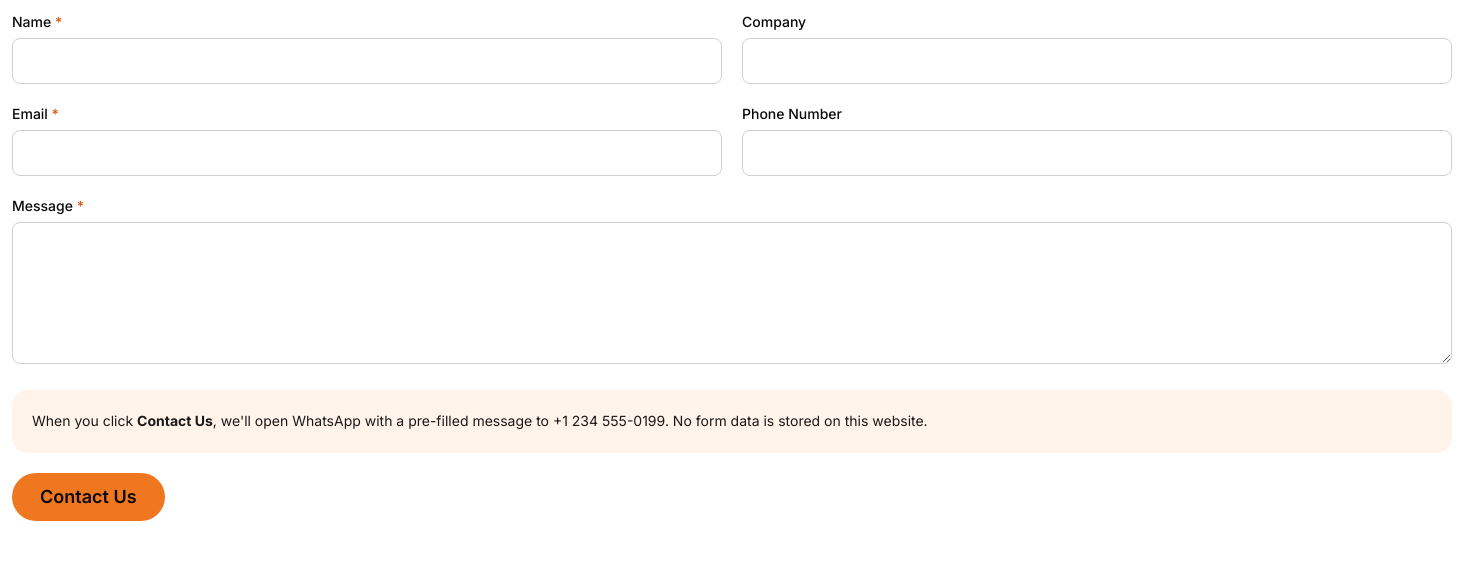
Test: ContactForm › phone field is optional — validates format when provided
Type "Daniel" into the field labelled "Name *" at (367, 61), box [12, 38, 722, 84]
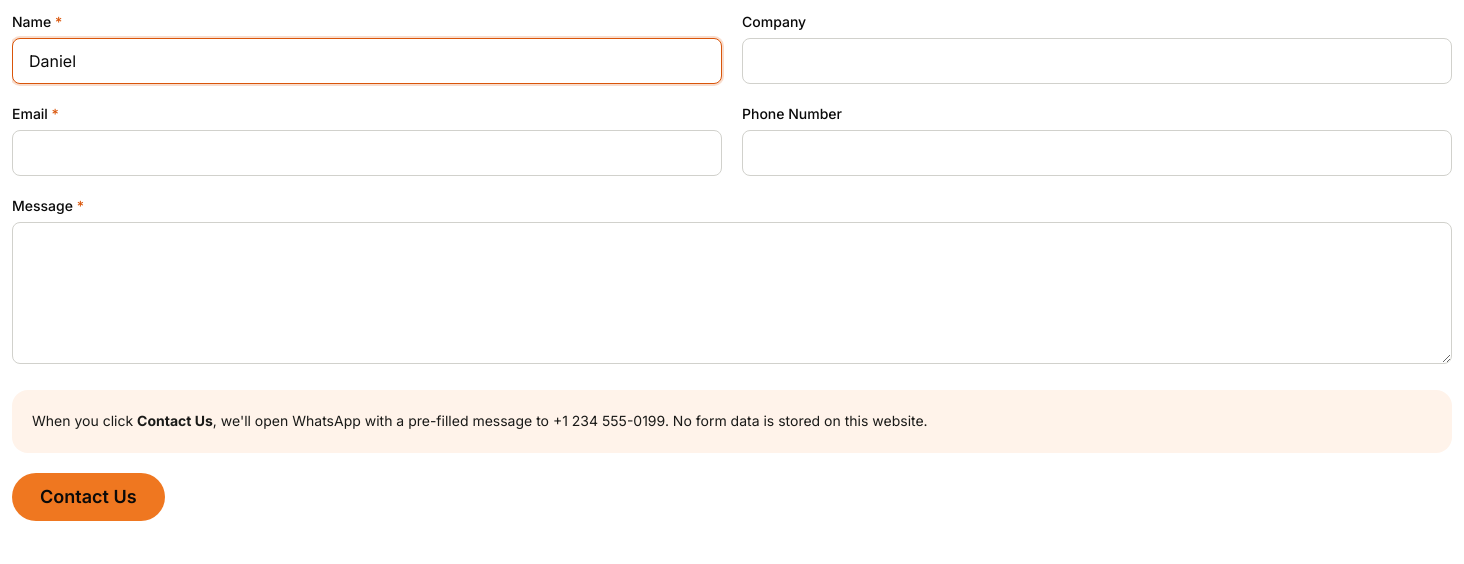
Type "daniel@test.com" into the field labelled "Email *" at (367, 153), box [12, 130, 722, 176]
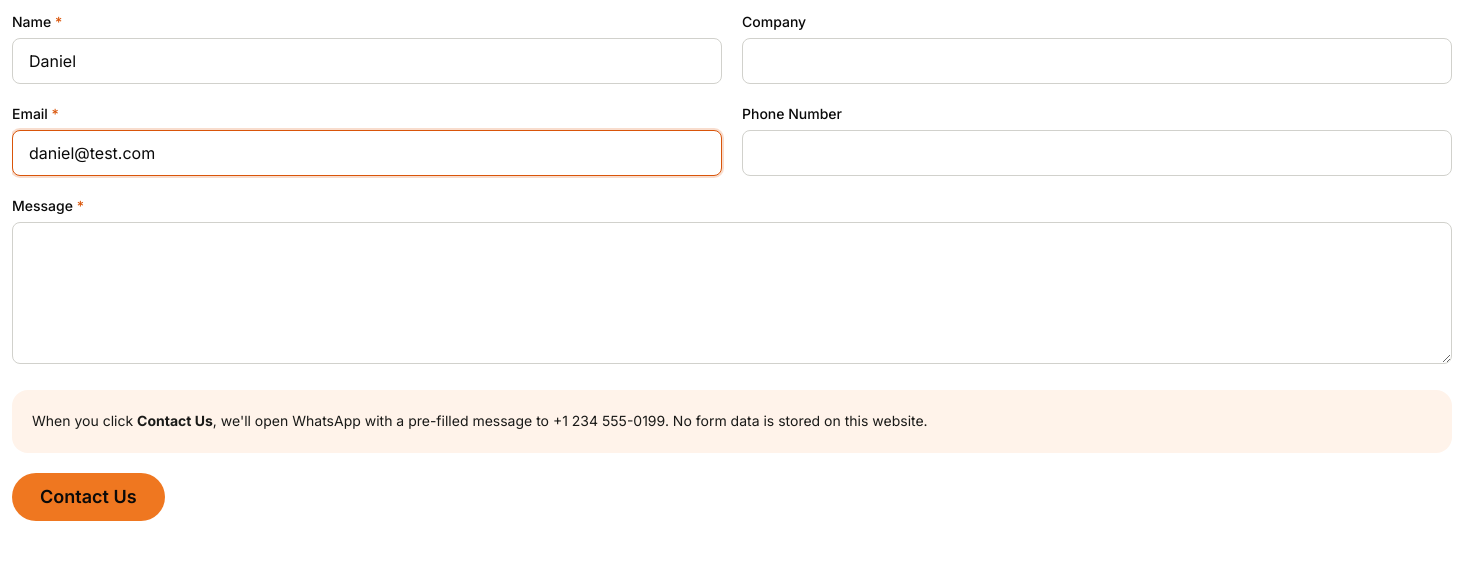
Type "abc" into the field labelled "Phone Number" at (1097, 153), box [742, 130, 1452, 176]
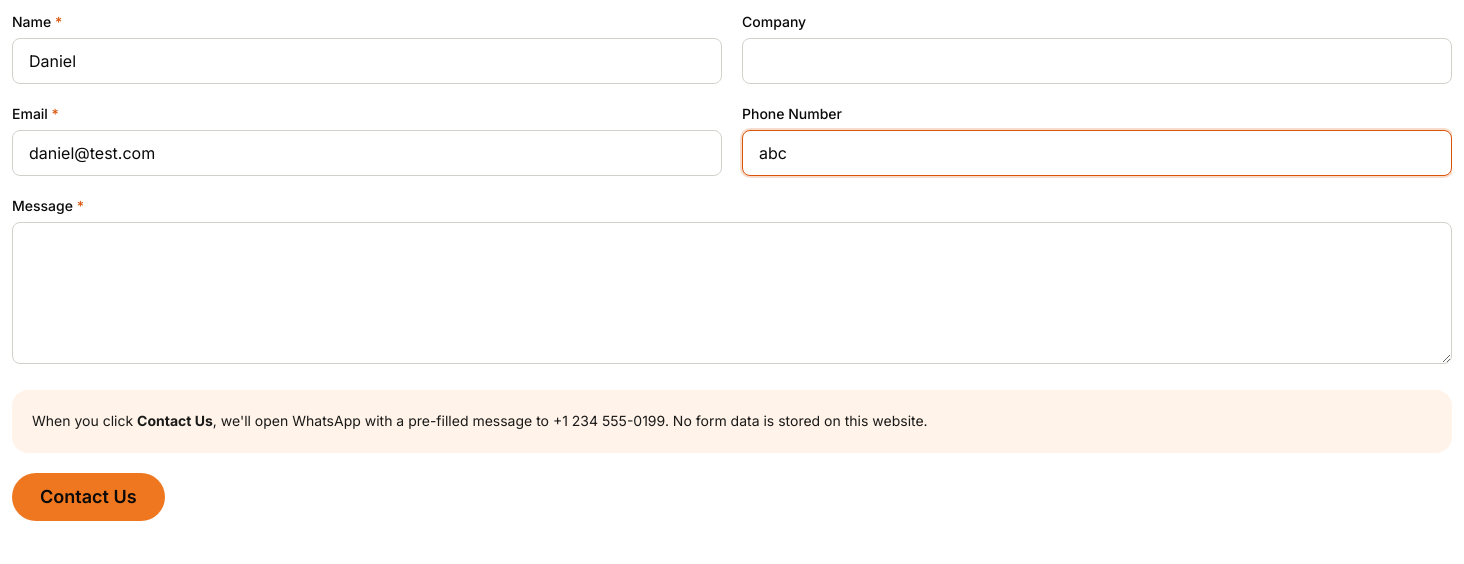
Type "I need a freight quote for ocean shipping." into the text box labelled "Message *" at (732, 293), box [12, 222, 1452, 364]
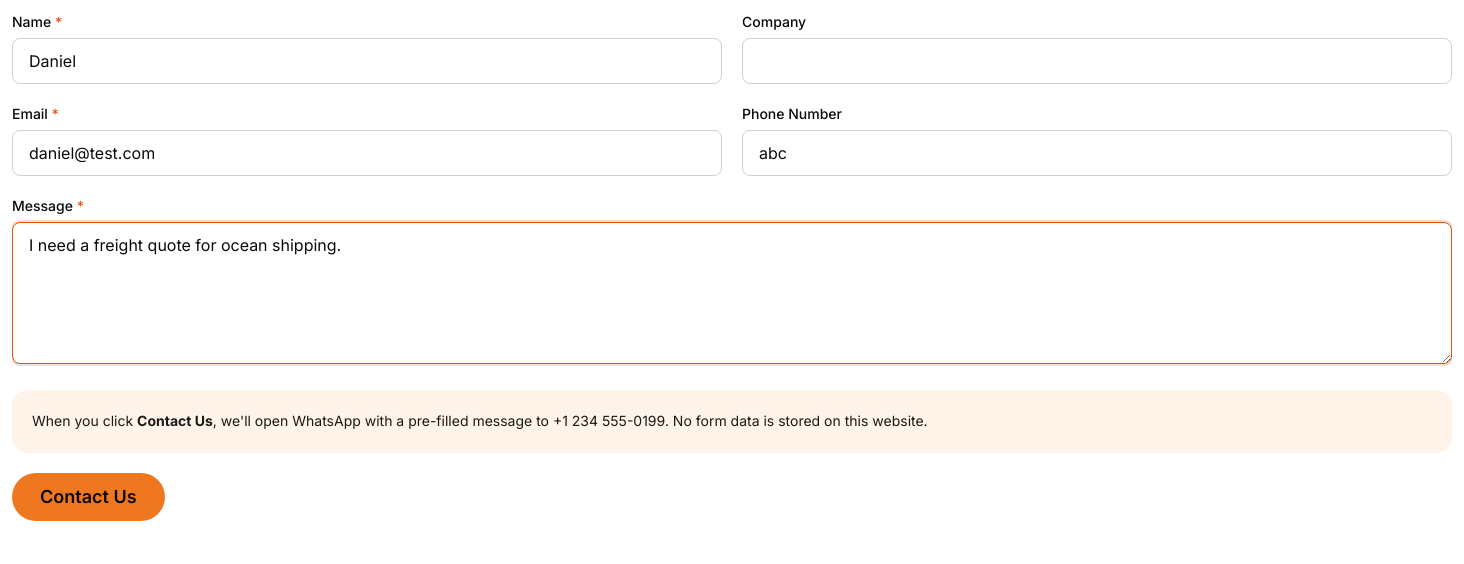
Click the button "Contact Us" at (88, 497), box [12, 473, 164, 521]
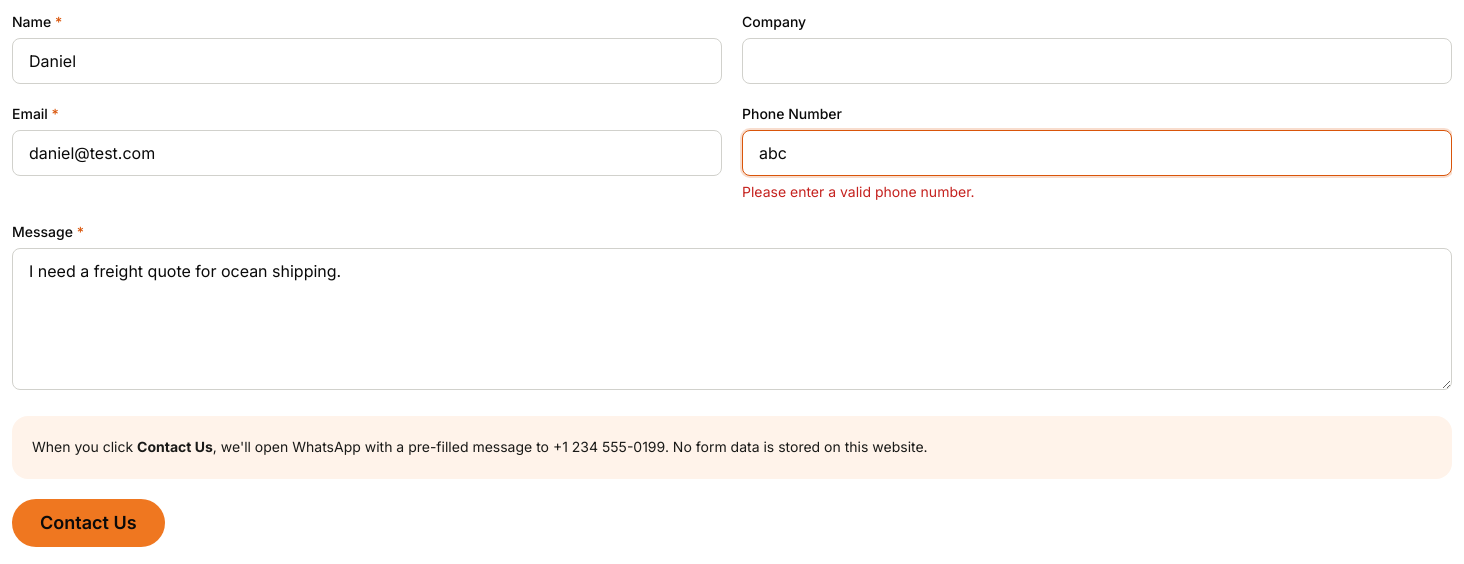
Expected: the text "Please enter a valid phone number." is shown, [742, 183, 975, 200]
